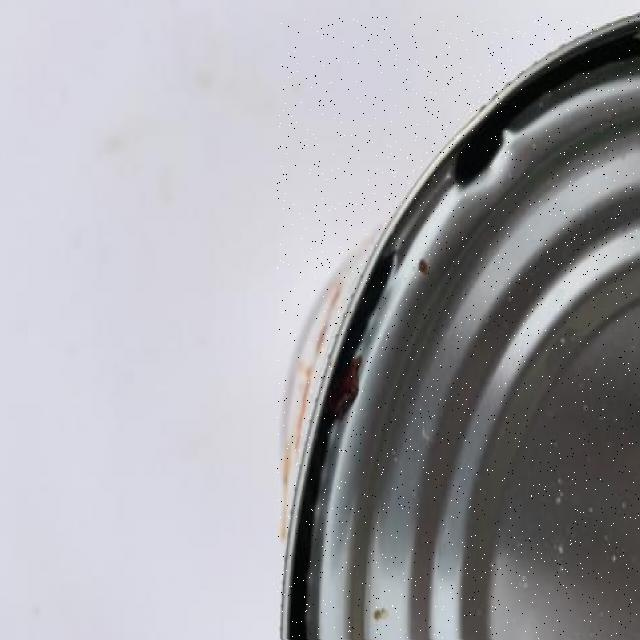metal: (277, 17, 639, 640)
